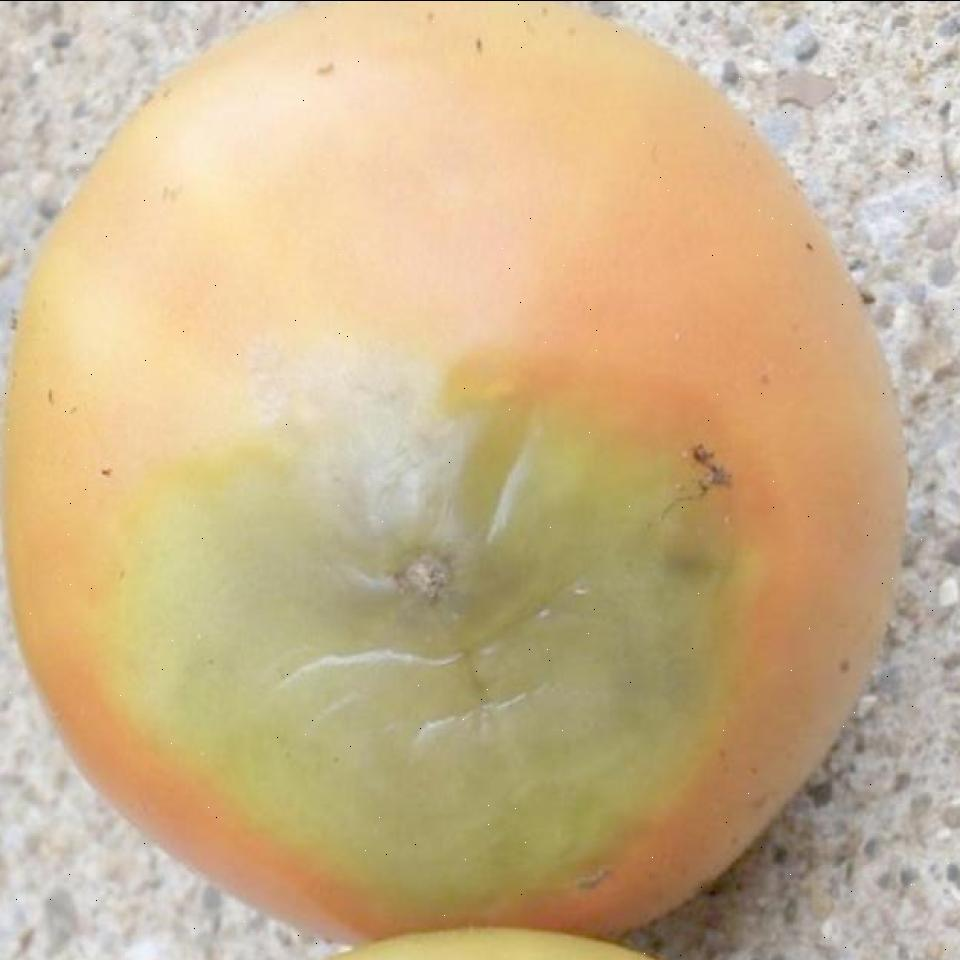Sunscald: (65, 356, 752, 916)
